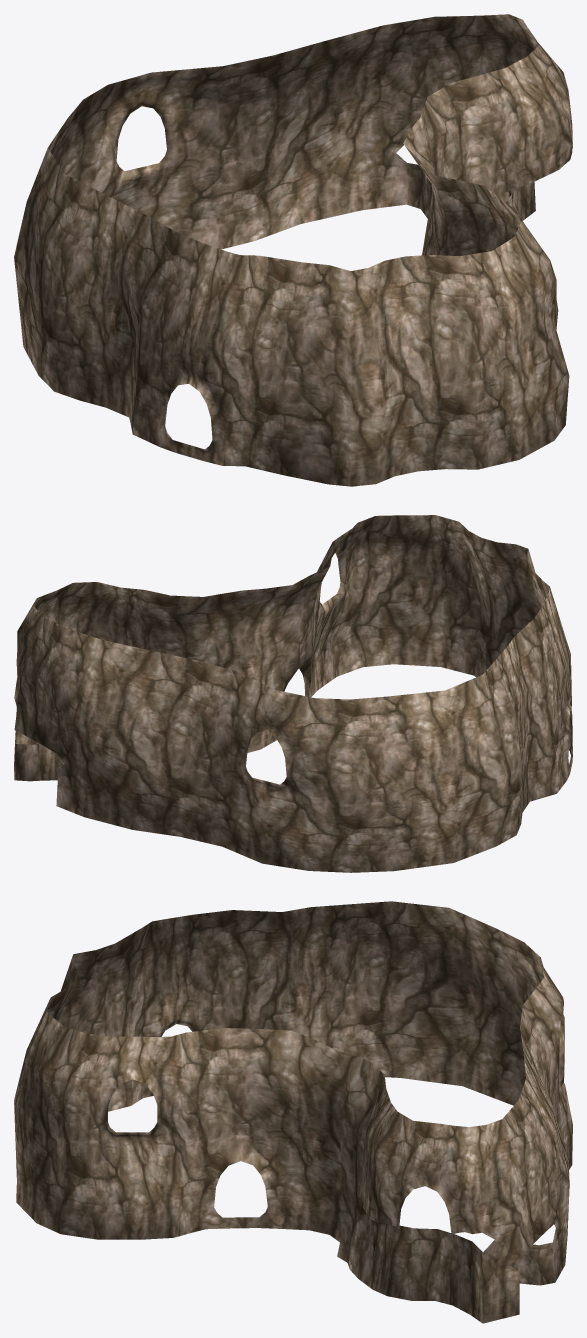
File: OVERHILL_A_01_OBJECT211.fbx
3 views of the same model, one above another, from view 1: azimuth 30°, elevation 25°; view 2: azimuth 150°, elevation 25°; view 3: azimuth 270°, elevation 25° (orthographic). The views are drawn at different scales.
Visible parts, largest first — view 1: OVERHILL_A_01_OBJECT211; view 2: OVERHILL_A_01_OBJECT211; view 3: OVERHILL_A_01_OBJECT211.
Part boxes in pixels (x1,y1,x2,y2): OVERHILL_A_01_OBJECT211: (14, 14, 572, 486); OVERHILL_A_01_OBJECT211: (14, 515, 572, 872); OVERHILL_A_01_OBJECT211: (14, 901, 572, 1323).
Size of the model in its own units: 313324 by 108956 by 294332.
1 material, 1 textured.
